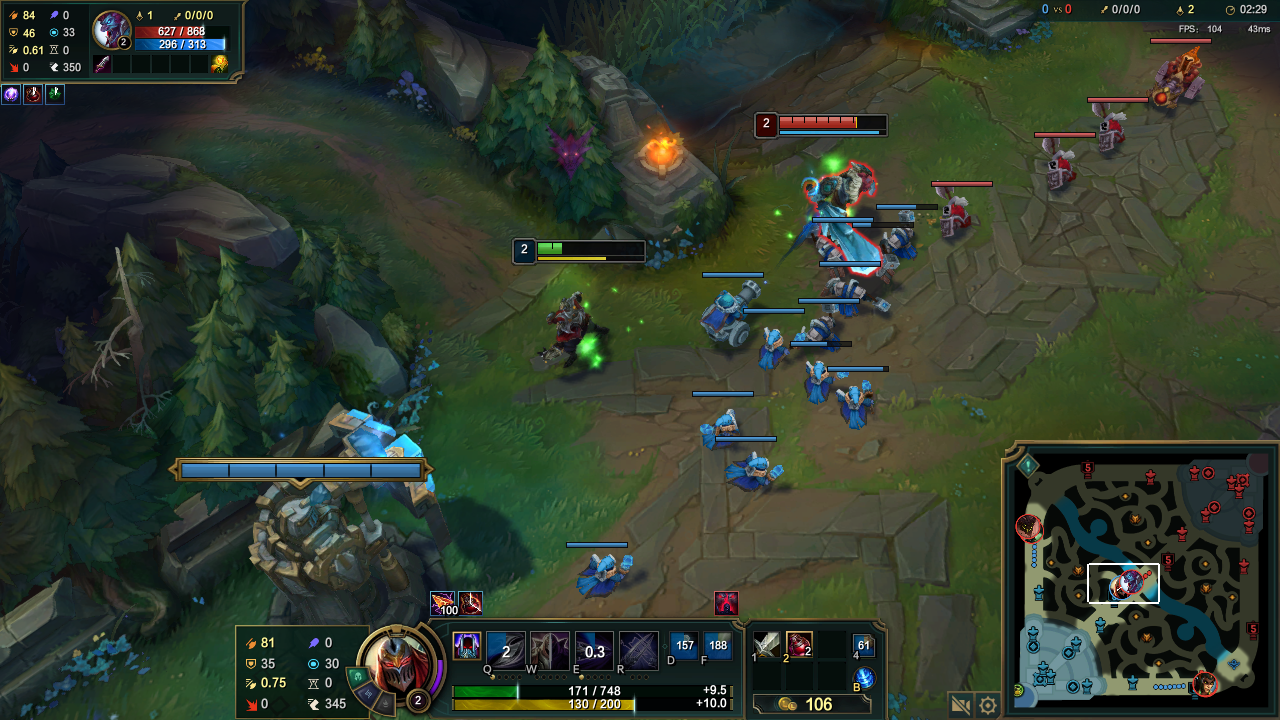DFYX: (778, 115, 884, 126)
WFXB: (701, 277, 760, 354)
